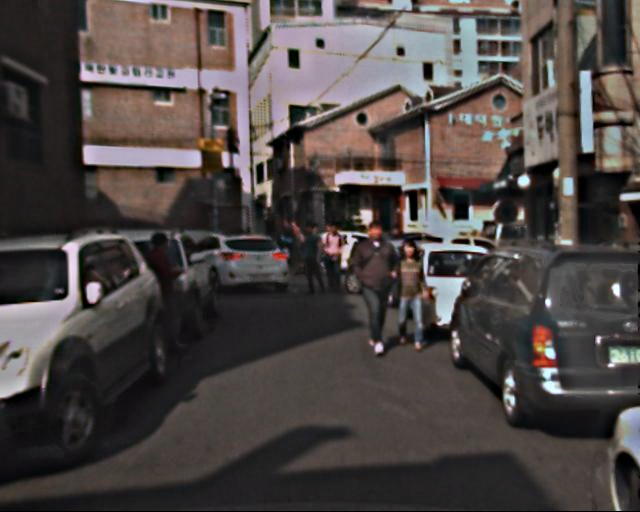person: (350, 226, 404, 358), (139, 233, 191, 359), (389, 240, 433, 347), (320, 225, 348, 293), (300, 227, 327, 294), (279, 220, 297, 265)
